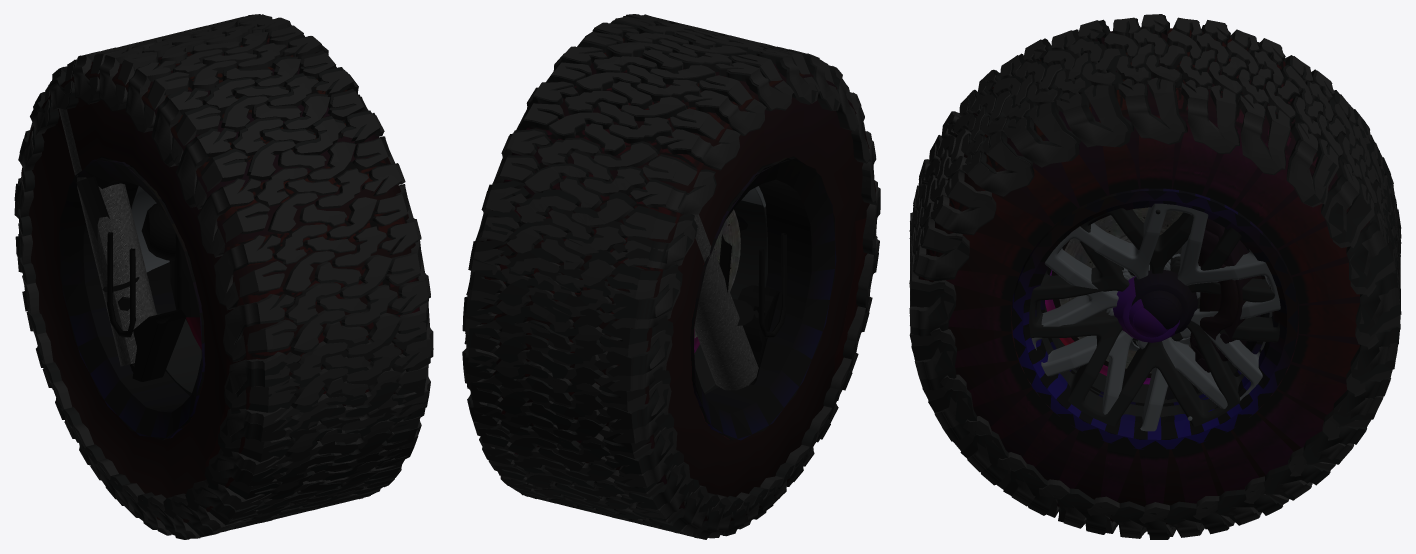
Rendered from wheels.glb.
3 renders of one model, left to right at view 1: azimuth 30°, elevation 25°; view 2: azimuth 150°, elevation 25°; view 3: azimuth 270°, elevation 25°, orthographic.
Parts seen in each view (by area): view 1: wheel_front_turning, wheel_rear_turning, static_rear, static_front; view 2: wheel_rear_turning, wheel_front_turning, static_rear, static_front; view 3: wheel_front_turning, wheel_rear_turning, static_front.
Part boxes in pixels (<box>): wheel_front_turning: <box>14,14,433,538</box>; wheel_rear_turning: <box>14,21,433,539</box>; static_rear: <box>59,108,156,372</box>; static_front: <box>76,176,199,317</box>; wheel_rear_turning: <box>462,15,880,539</box>; wheel_front_turning: <box>462,14,880,538</box>; static_rear: <box>693,214,758,390</box>; static_front: <box>719,234,765,325</box>; wheel_front_turning: <box>909,14,1401,538</box>; wheel_rear_turning: <box>909,15,1401,539</box>; static_front: <box>1190,218,1254,372</box>.
Size of the model in its own units: 0.4551 by 0.9556 by 0.9542.
Materials: 7 (3 with a texture image).
